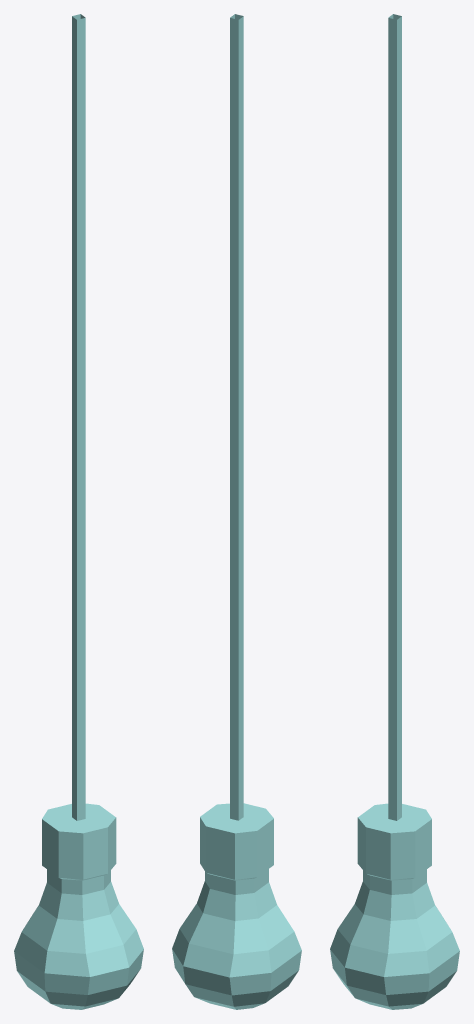
Rendered from lamp.fbx.
3 renders of one model, left to right at view 1: azimuth 30°, elevation 25°; view 2: azimuth 150°, elevation 25°; view 3: azimuth 330°, elevation 25°, orthographic.
Parts seen in each view (by area): view 1: lamp; view 2: lamp; view 3: lamp.
Boxes of the visible parts, x1=… form: lamp: x1=14, y1=14, x2=143, y2=1009; lamp: x1=172, y1=14, x2=301, y2=1009; lamp: x1=330, y1=14, x2=459, y2=1009.
Size of the model in its own units: 0.6711 by 6.32 by 0.7152.
